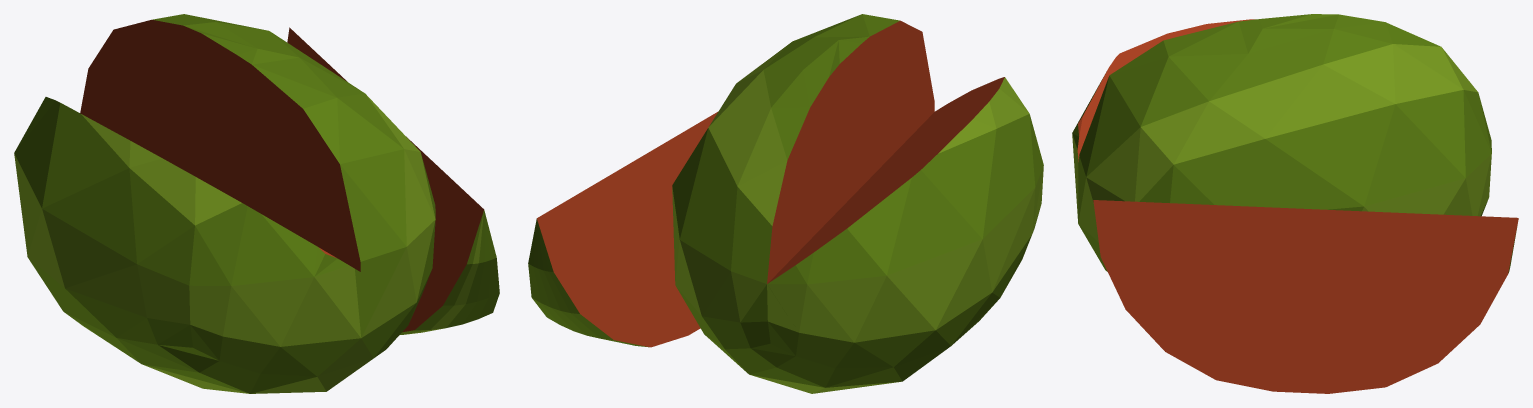
Rendered from Melon(Pickup).fbx.
The picture shows the model from 3 angles, left to right: view 1: azimuth 30°, elevation 25°; view 2: azimuth 150°, elevation 25°; view 3: azimuth 270°, elevation 25°; orthographic projection. The views are drawn at different scales.
Parts seen in each view (by area): view 1: Melon_Pickup_; view 2: Melon_Pickup_; view 3: Melon_Pickup_.
Boxes of the visible parts, x1=… form: Melon_Pickup_: x1=14, y1=14, x2=499, y2=393; Melon_Pickup_: x1=528, y1=14, x2=1043, y2=393; Melon_Pickup_: x1=1072, y1=14, x2=1518, y2=393.
Bounding box in the file's own units: 44.12 × 33.73 × 48.05.
